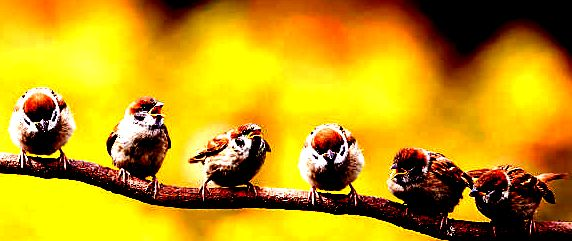Bird: (467, 155, 567, 237), (389, 139, 467, 237), (104, 96, 172, 199), (188, 122, 271, 202), (296, 114, 363, 208), (7, 82, 76, 172)
